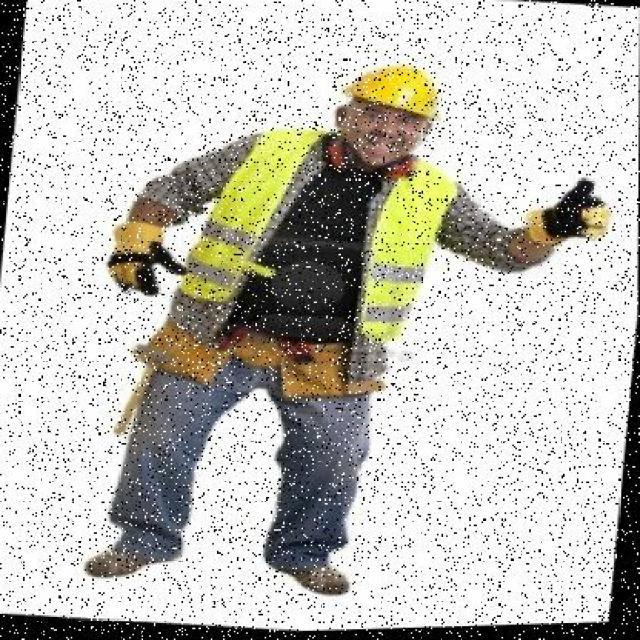helmet: (345, 60, 467, 124)
vest: (182, 119, 472, 361)
